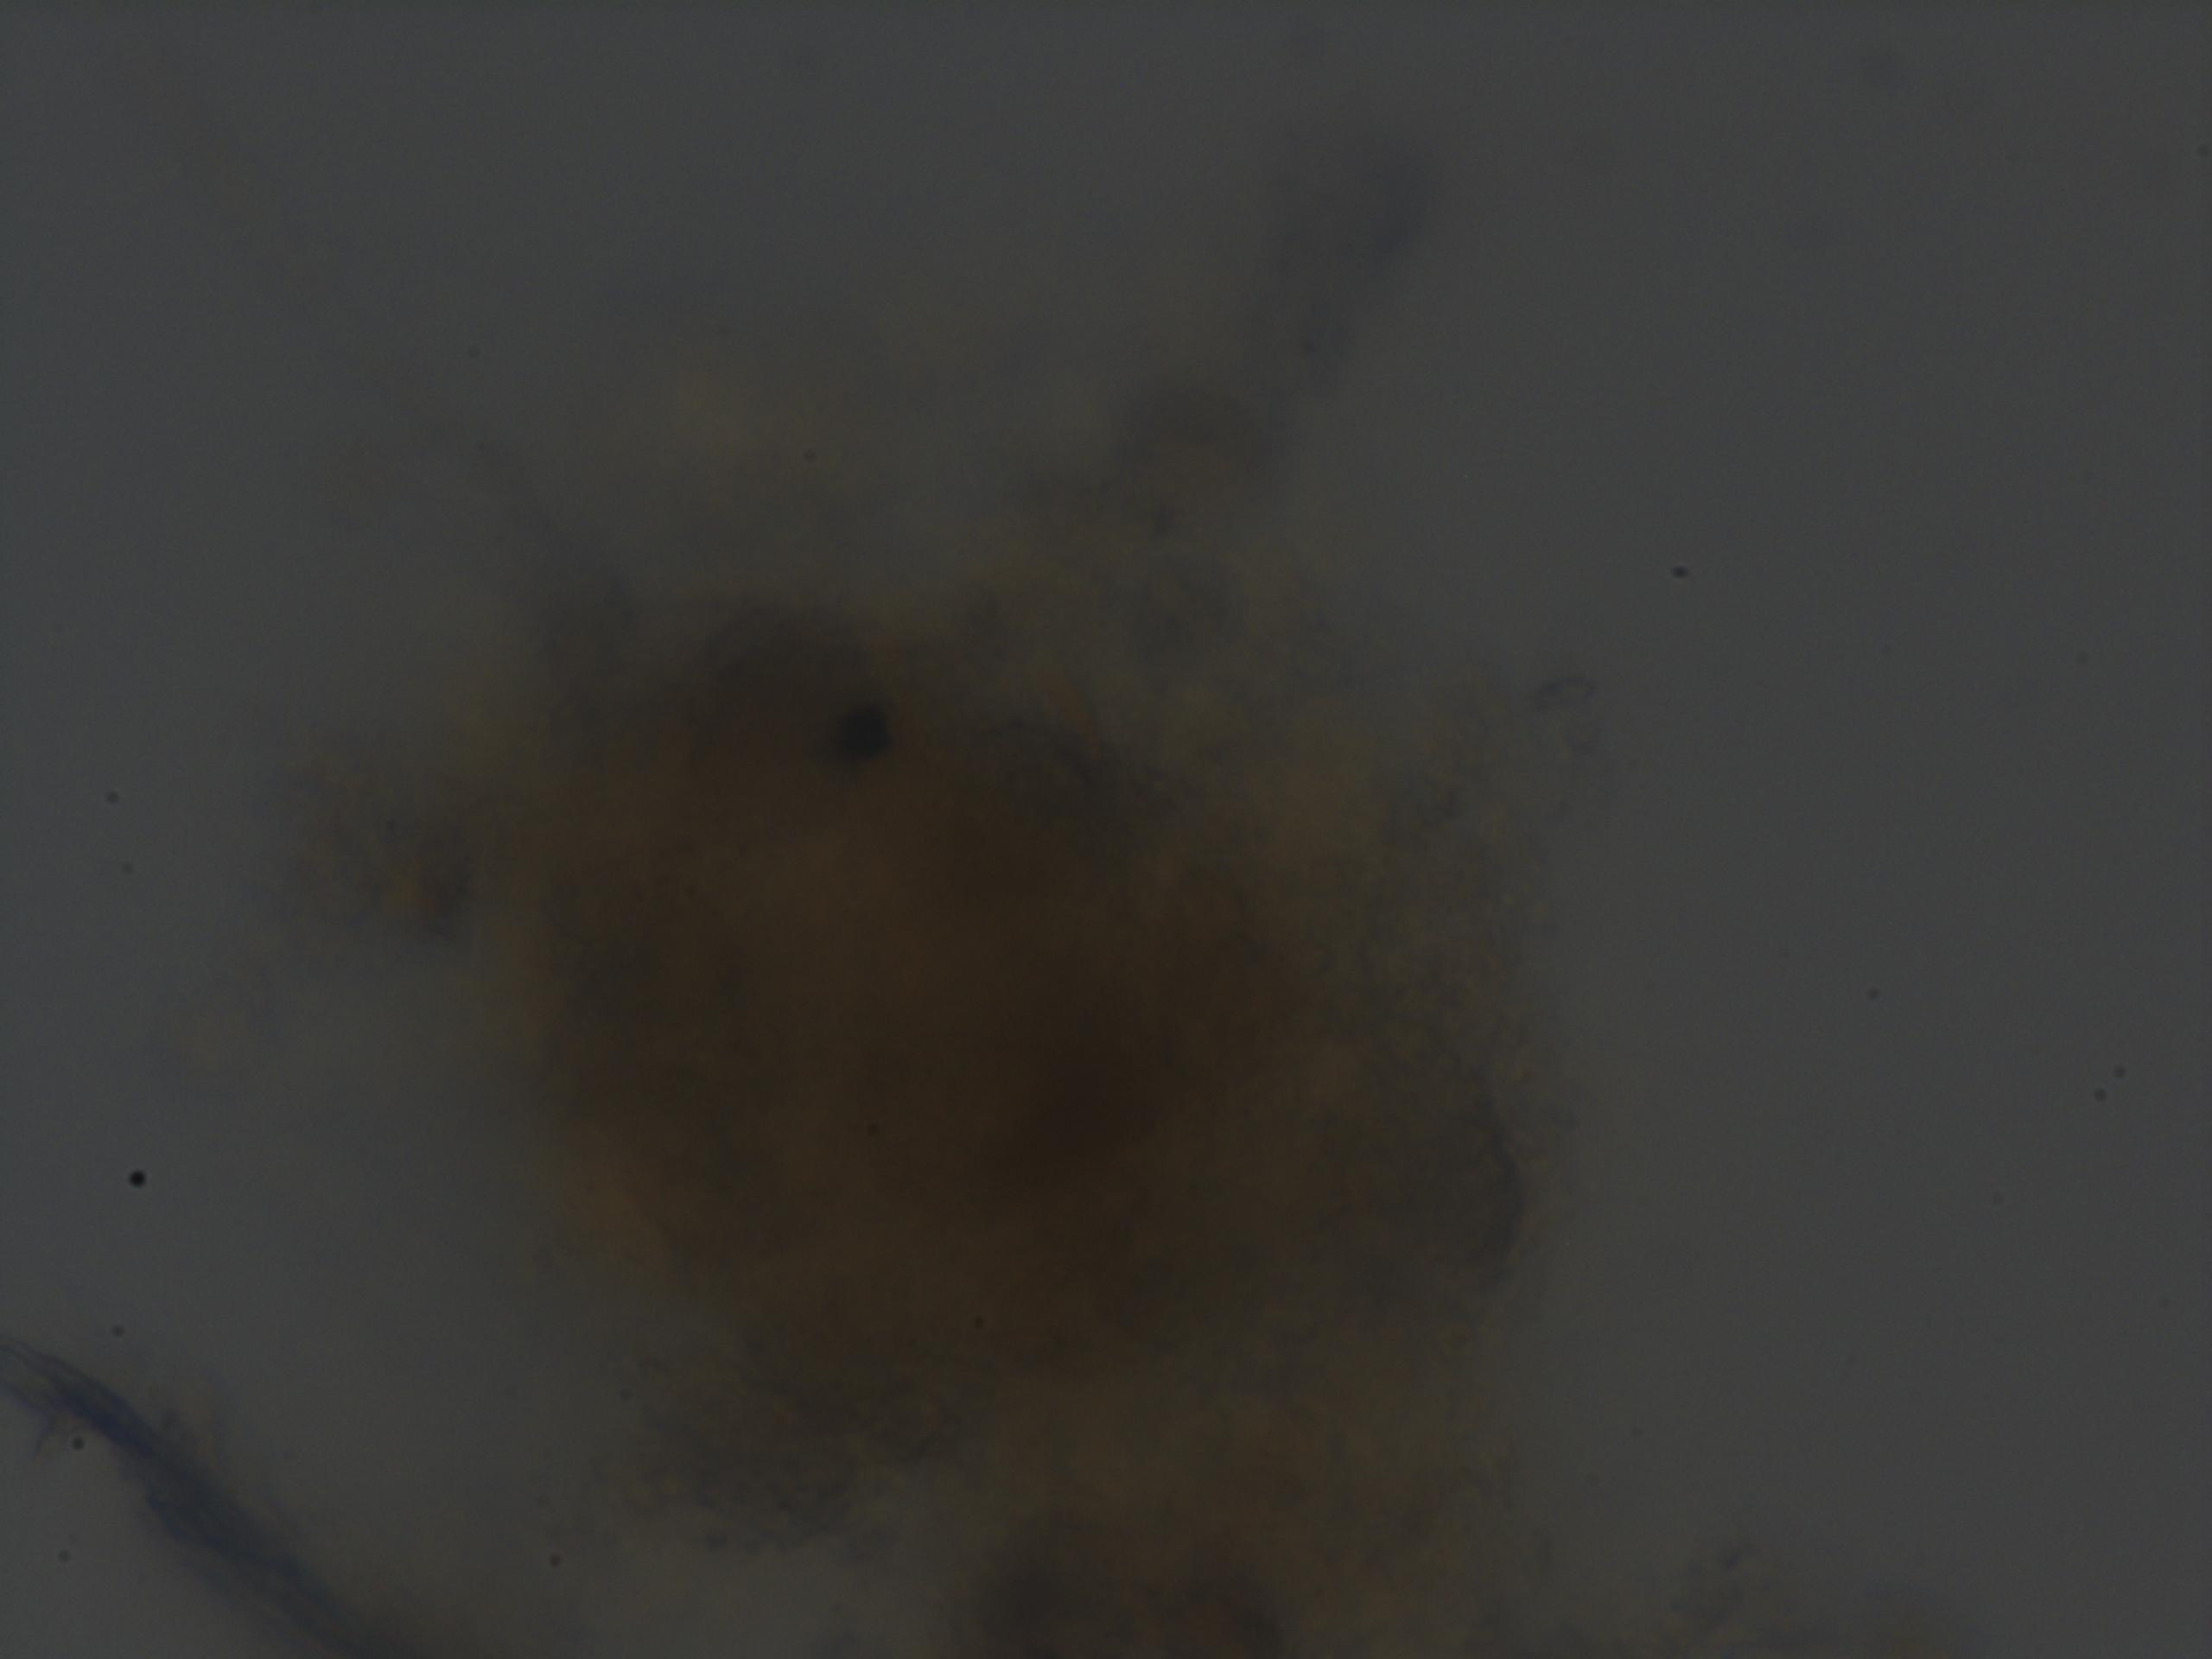filament: (2, 1338, 374, 1659)
